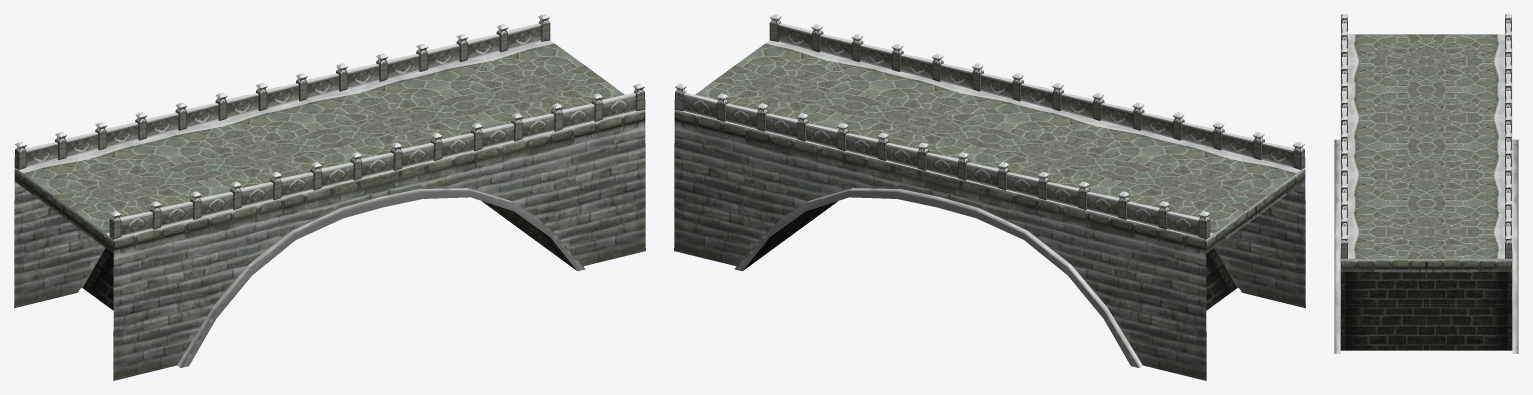
Rendered from nsm-022-10m-bridge.fbx.
3 renders of one model, left to right at view 1: azimuth 30°, elevation 25°; view 2: azimuth 150°, elevation 25°; view 3: azimuth 270°, elevation 25°, orthographic. The views are drawn at different scales.
Visible parts, largest first — view 1: 022; view 2: 022; view 3: 022.
Part boxes in pixels (left/top/right/bottom): 022: left=14, top=14, right=645, bottom=380; 022: left=674, top=14, right=1305, bottom=380; 022: left=1334, top=14, right=1518, bottom=353.
Bounding box in the file's own units: 39.46 × 11.76 × 13.69.
